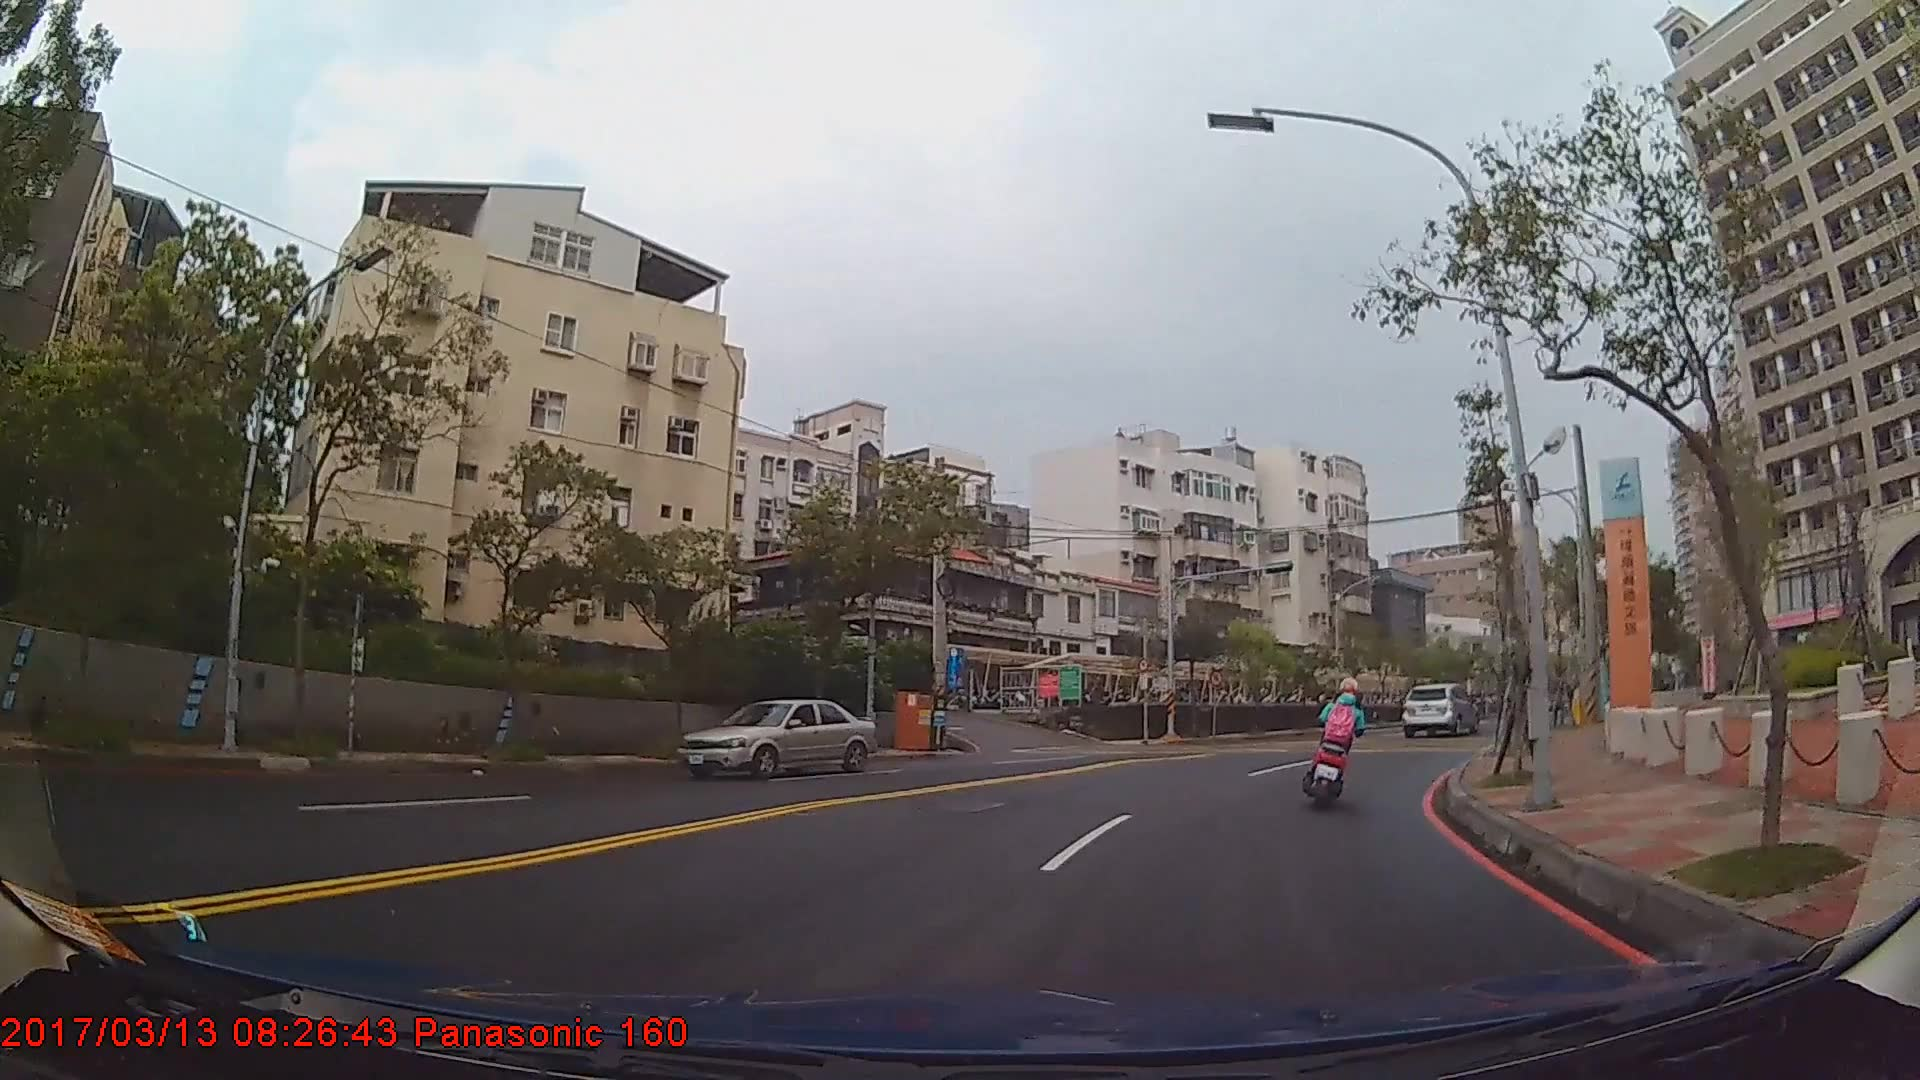rider: (1311, 676, 1371, 802)
vehicle: (674, 698, 876, 779), (1400, 682, 1476, 738)
